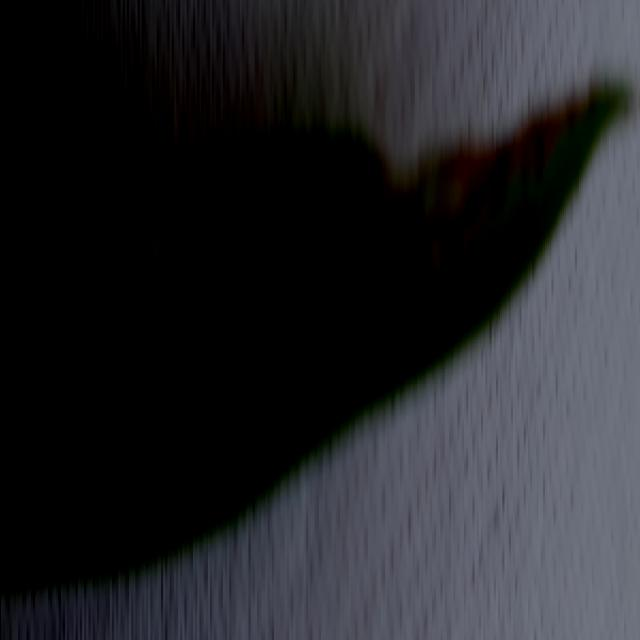Brown_Spot: (20, 210, 276, 386)
